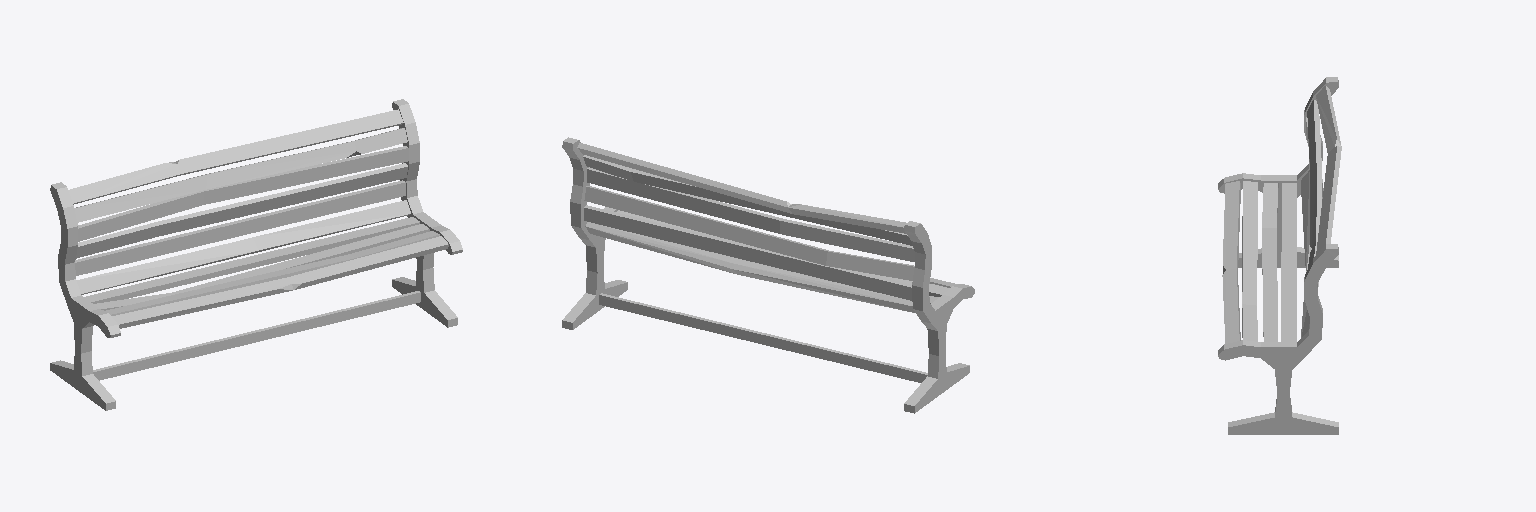
File: Park Bench_NoArms.obj
The picture shows the model from 3 angles: view 1: azimuth 30°, elevation 25°; view 2: azimuth 150°, elevation 25°; view 3: azimuth 270°, elevation 25°; orthographic projection.
Visible parts, largest first — view 1: Park Bench_NoArms; view 2: Park Bench_NoArms; view 3: Park Bench_NoArms.
Boxes of the visible parts, x1,y1,x2,y2 form: Park Bench_NoArms: [50, 99, 462, 410]; Park Bench_NoArms: [562, 137, 974, 413]; Park Bench_NoArms: [1218, 77, 1341, 434].
Size of the model in its own units: 2.08 by 1.05 by 0.6326.